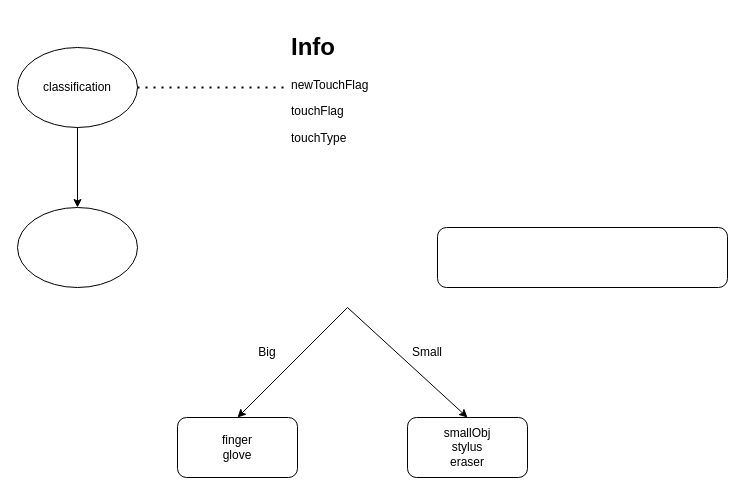
The diagram is 745 pixels wide and 495 high, and some of its shapes have lost their labels. The shapes that lost their labels are listed below. From the top down, each one's centre as x and y in pixels, then its label:
At point 77,247: "position".
At point 582,257: "NoTracked | newTouchFlag | touchFlag == 0 ClearStateInfo".
